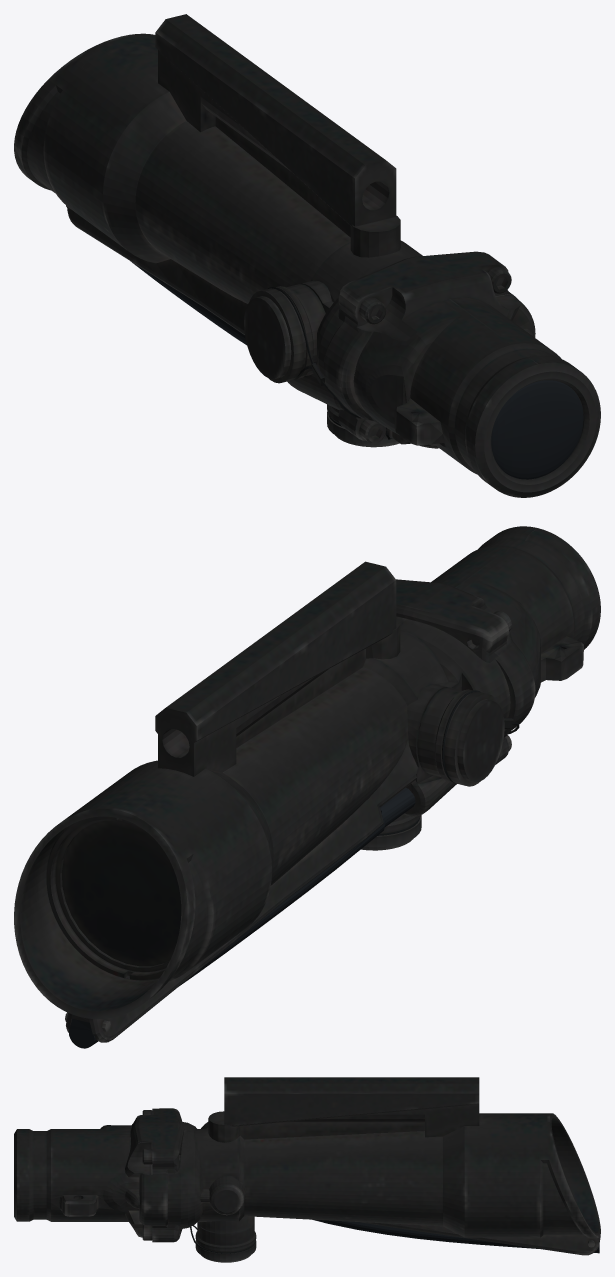
3 renders of one model, top to bottom at view 1: azimuth 30°, elevation 25°; view 2: azimuth 150°, elevation 25°; view 3: azimuth 270°, elevation 25°, orthographic. The views are drawn at different scales.
Parts seen in each view (by area): view 1: TW_59db7e1086f77448be30ddf3_PZ_Import; view 2: TW_59db7e1086f77448be30ddf3_PZ_Import; view 3: TW_59db7e1086f77448be30ddf3_PZ_Import.
Boxes of the visible parts, <box> form: TW_59db7e1086f77448be30ddf3_PZ_Import: <box>14,14,600,497</box>; TW_59db7e1086f77448be30ddf3_PZ_Import: <box>14,526,600,1048</box>; TW_59db7e1086f77448be30ddf3_PZ_Import: <box>14,1077,600,1262</box>.
Bounding box in the file's own units: 0.0305 × 0.117 × 0.0378.
Materials: 1 (1 with a texture image).
